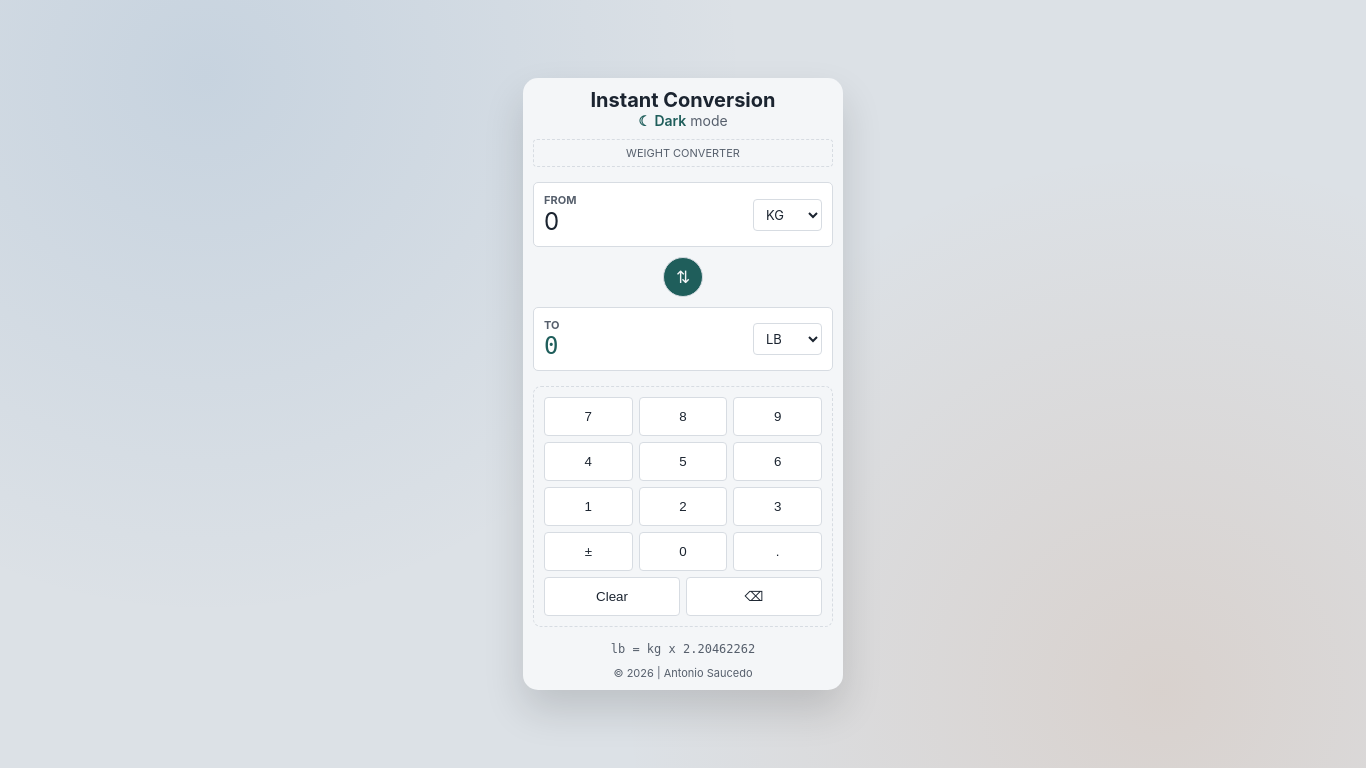
Test: App › recalculates when the target unit changes
The image size is (1366, 768).
Click the button "1" at (588, 506), box [544,487,633,526]
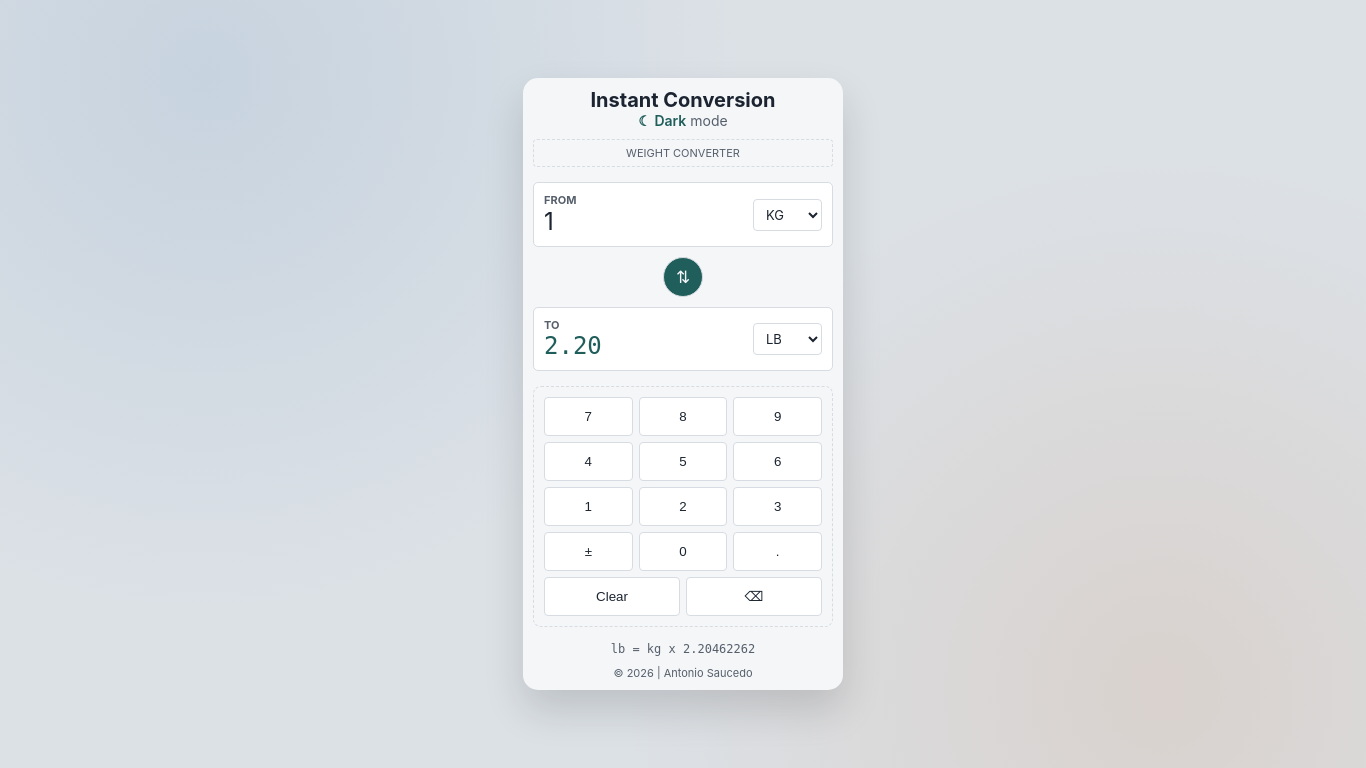
Select "G" in the dropdown named "Convert to unit" at (788, 339), box [753,323,822,355]
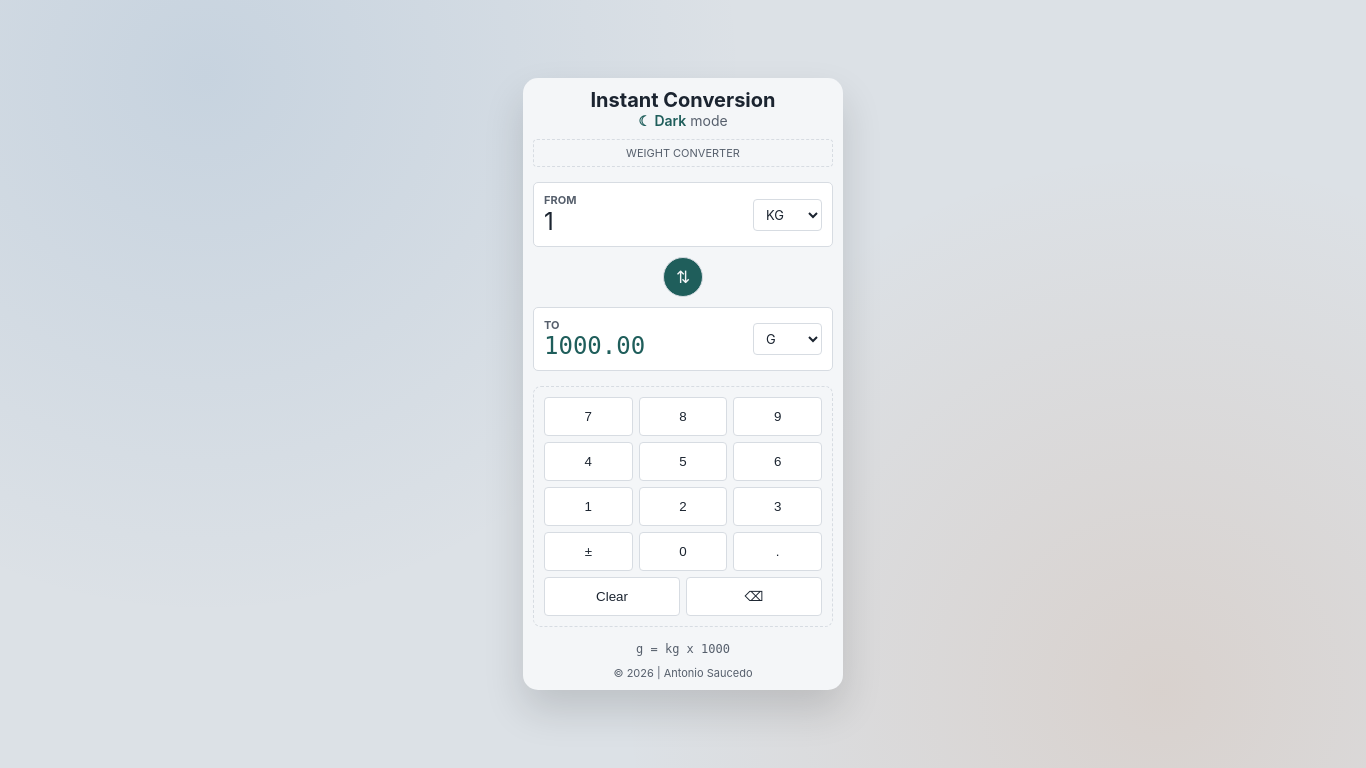
Now the text with id "conversion-value" shows "1000", box [544,332,645,360]
